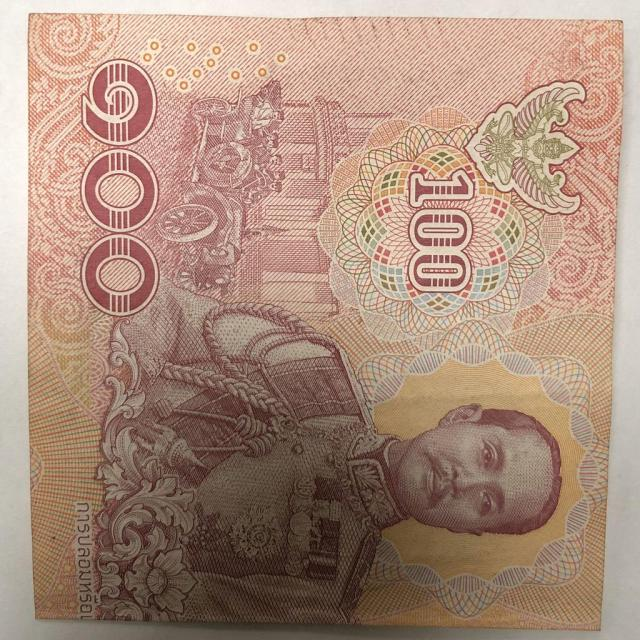THAI100: (26, 13, 624, 633)
